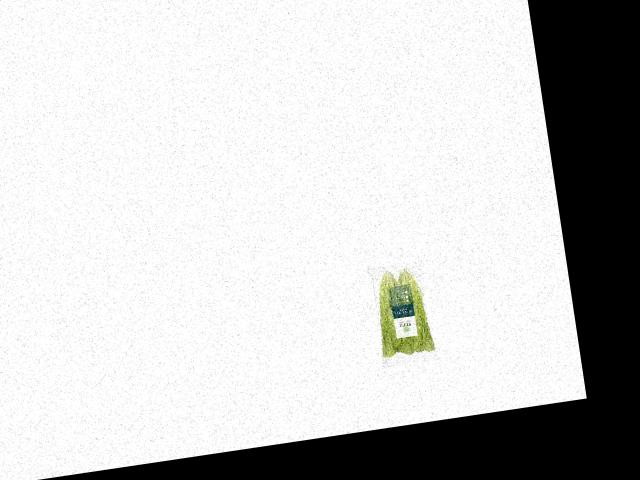lettuce: (363, 264, 436, 362)
